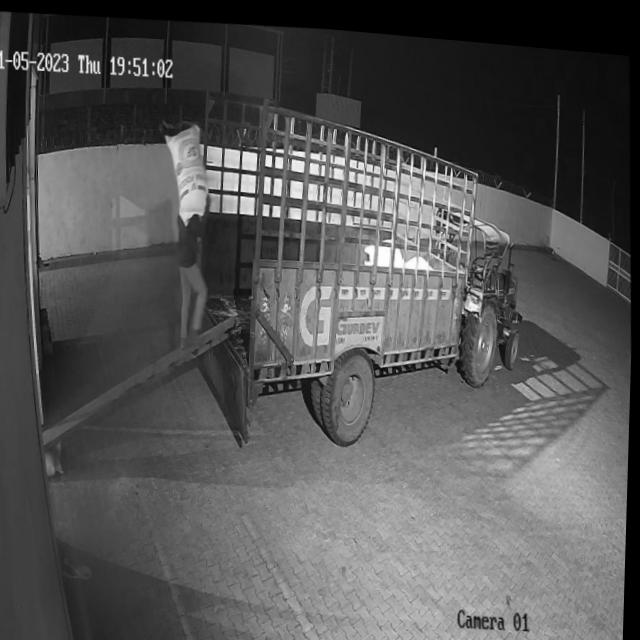sack: (162, 117, 211, 224)
